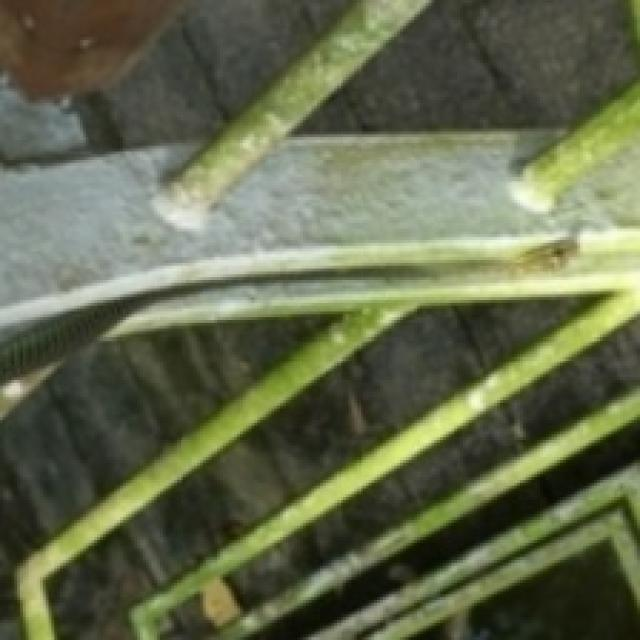paradise tree snake: (1, 236, 578, 383)
